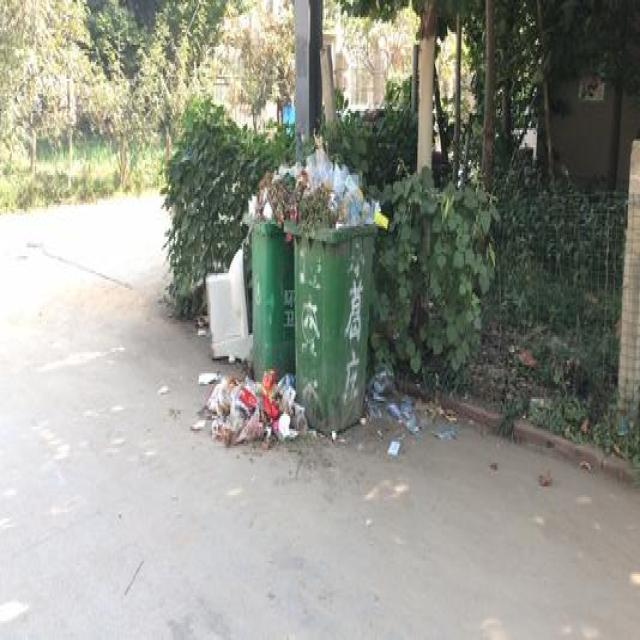garbage: (190, 371, 307, 442)
overflow: (284, 143, 388, 429), (241, 160, 295, 378)
